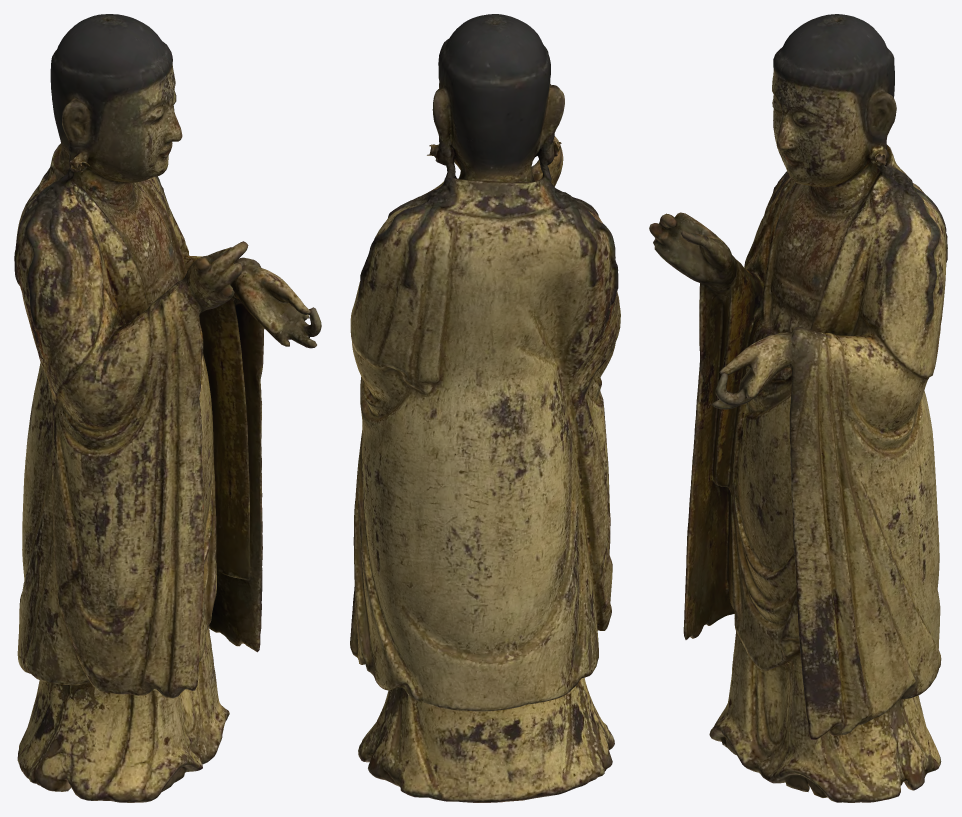
Rendered from preview.glb.
3 renders of one model, left to right at view 1: azimuth 30°, elevation 25°; view 2: azimuth 150°, elevation 25°; view 3: azimuth 270°, elevation 25°, orthographic.
Visible parts, largest first — view 1: Object_2; view 2: Object_2; view 3: Object_2.
Boxes of the visible parts, <box> form: Object_2: <box>14,14,321,802</box>; Object_2: <box>350,14,620,802</box>; Object_2: <box>649,14,947,802</box>.
Bounding box in the file's own units: 0.1783 × 0.4892 × 0.1807.
Materials: 1 (1 with a texture image).
